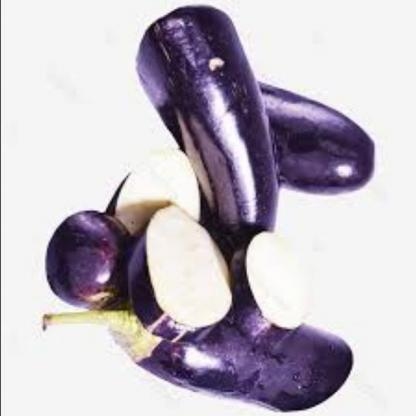eggplant: (41, 228, 374, 395), (146, 2, 274, 294), (267, 83, 416, 208)
